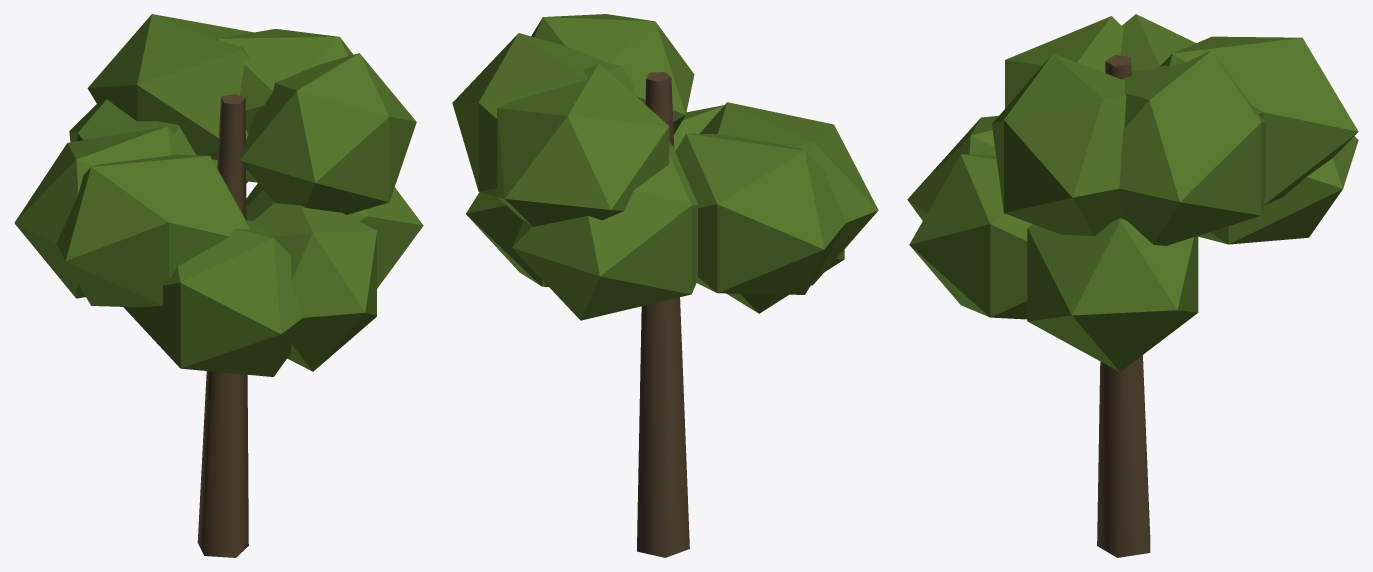
The picture shows the model from 3 angles, left to right: view 1: azimuth 30°, elevation 25°; view 2: azimuth 150°, elevation 25°; view 3: azimuth 270°, elevation 25°; orthographic projection. The views are drawn at different scales.
Visible parts, largest first — view 1: oak-leaf; view 2: oak-leaf; view 3: oak-leaf.
Part boxes in pixels (left/top/right/bottom): oak-leaf: left=14, top=14, right=423, bottom=557; oak-leaf: left=452, top=14, right=878, bottom=557; oak-leaf: left=907, top=14, right=1358, bottom=557.
Size of the model in its own units: 6.47 by 8.1 by 6.45.
